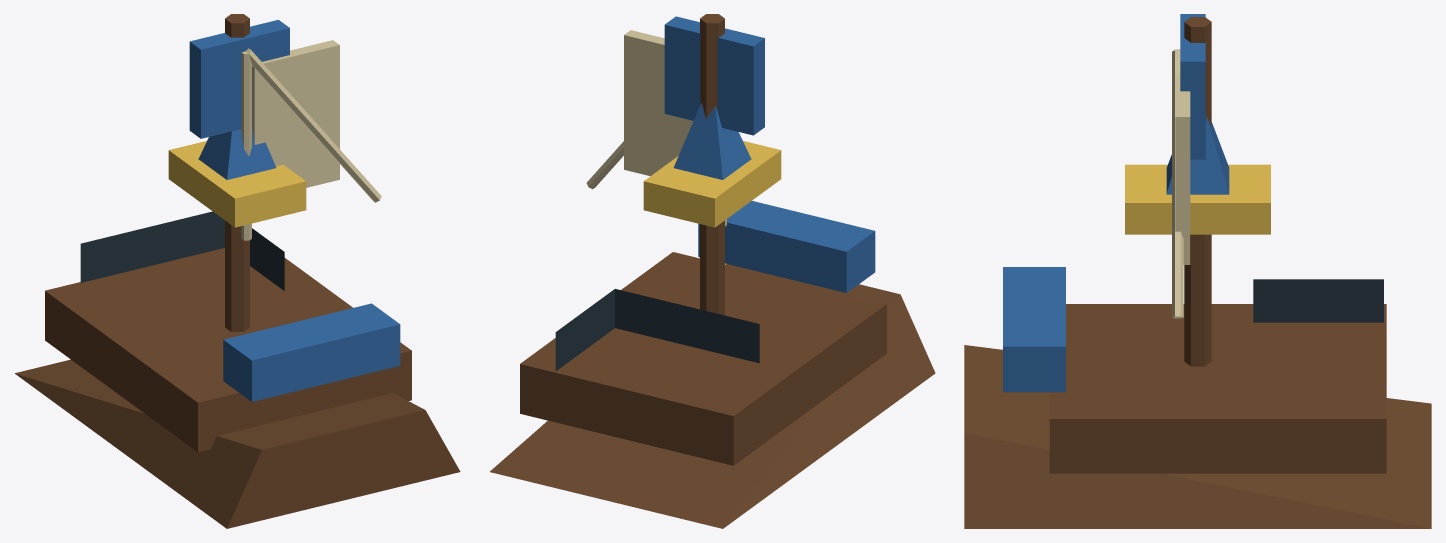
File: ship.obj
3 views of the same model, side by side, from view 1: azimuth 30°, elevation 25°; view 2: azimuth 150°, elevation 25°; view 3: azimuth 270°, elevation 25° (orthographic). The views are drawn at different scales.
Visible parts, largest first — view 1: ship; view 2: ship; view 3: ship.
Part boxes in pixels (x1,y1,x2,y2): ship: (15,14,460,528); ship: (490,14,935,528); ship: (964,14,1431,528).
Bounding box in the file's own units: 1.27 × 1.95 × 1.86.
